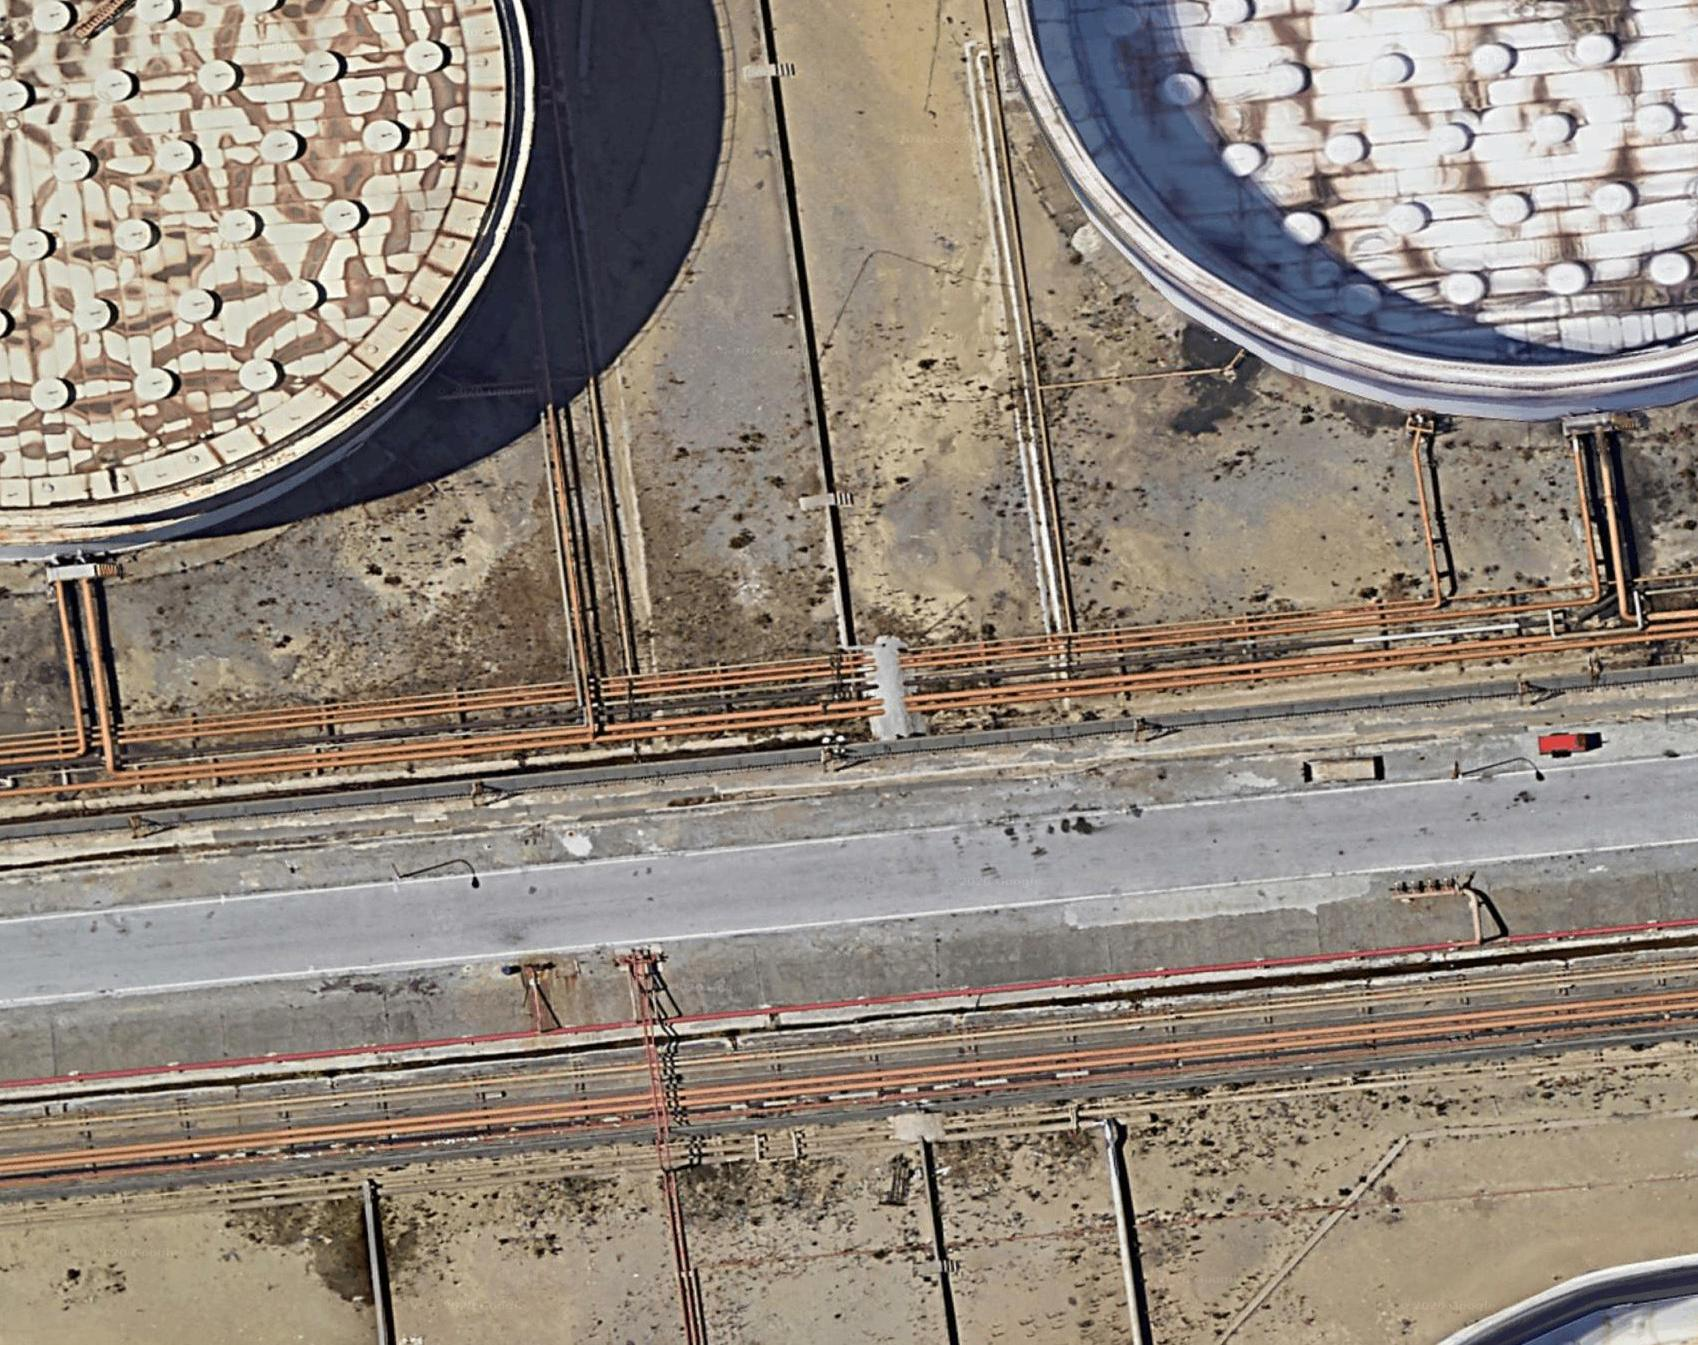storage-tank: (934, 1, 1698, 451), (1, 1, 550, 547)
